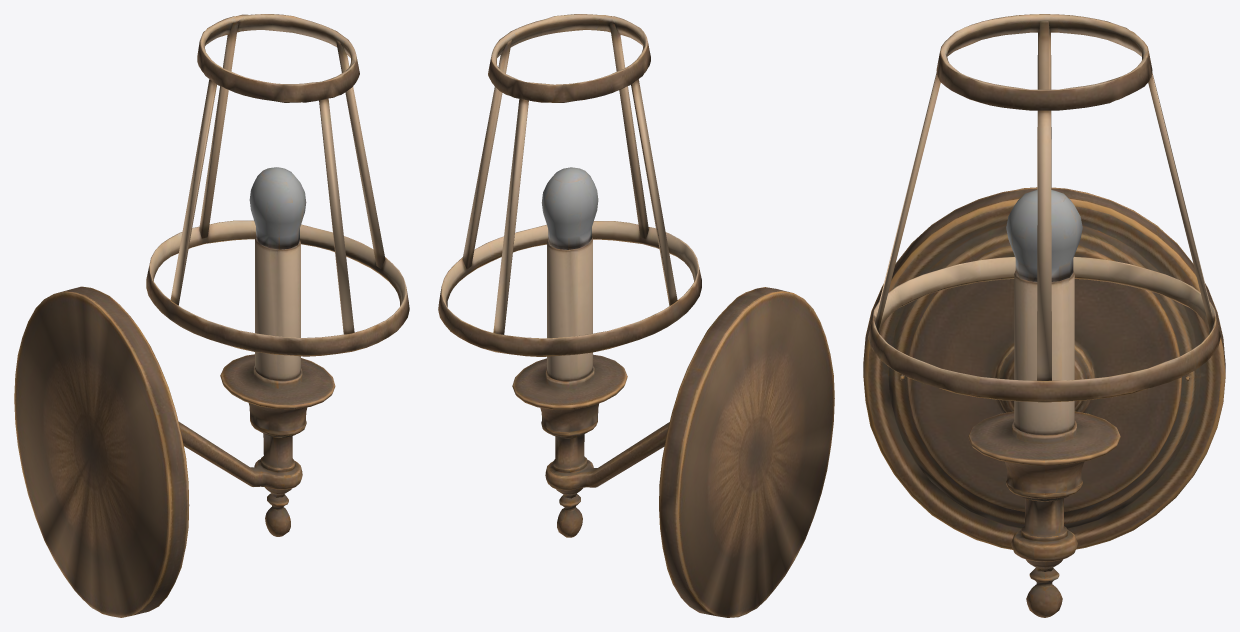
File: lighting-wall-sconce.glb
3 renders of one model, left to right at view 1: azimuth 30°, elevation 25°; view 2: azimuth 150°, elevation 25°; view 3: azimuth 270°, elevation 25°, orthographic. The views are drawn at different scales.
Visible parts, largest first — view 1: tripo_node_420f00ca-48c6-4c71-919f-565f4bfba235; view 2: tripo_node_420f00ca-48c6-4c71-919f-565f4bfba235; view 3: tripo_node_420f00ca-48c6-4c71-919f-565f4bfba235.
Boxes of the visible parts, <box> form: tripo_node_420f00ca-48c6-4c71-919f-565f4bfba235: <box>14,14,409,617</box>; tripo_node_420f00ca-48c6-4c71-919f-565f4bfba235: <box>438,14,834,617</box>; tripo_node_420f00ca-48c6-4c71-919f-565f4bfba235: <box>863,14,1225,617</box>.
Bounding box in the file's own units: 0.24 × 0.4 × 0.22.
Materials: 1 (1 with a texture image).
